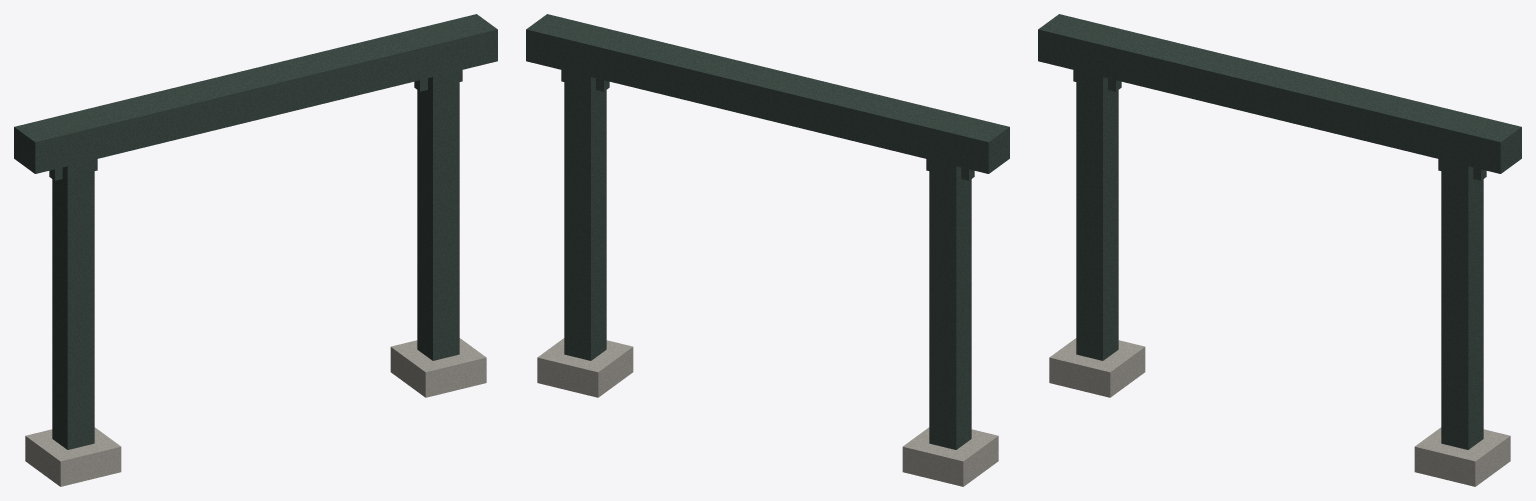
The model's file is l_bent.glb.
The picture shows the model from 3 angles, left to right: view 1: azimuth 30°, elevation 25°; view 2: azimuth 150°, elevation 25°; view 3: azimuth 330°, elevation 25°; orthographic projection.
Parts seen in each view (by area): view 1: l_bent; view 2: l_bent; view 3: l_bent.
Boxes of the visible parts, box(x1,y1,x2,y2) form: l_bent: box(14, 14, 497, 486); l_bent: box(526, 14, 1009, 486); l_bent: box(1038, 14, 1521, 486).
Size of the model in its own units: 7.6 by 5.4 by 1.
2 materials, 2 textured.
